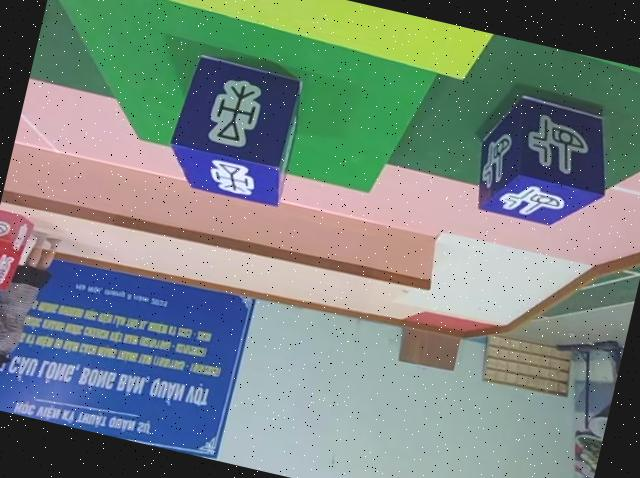R2 Real Blue: (469, 85, 625, 236), (164, 48, 311, 206)
